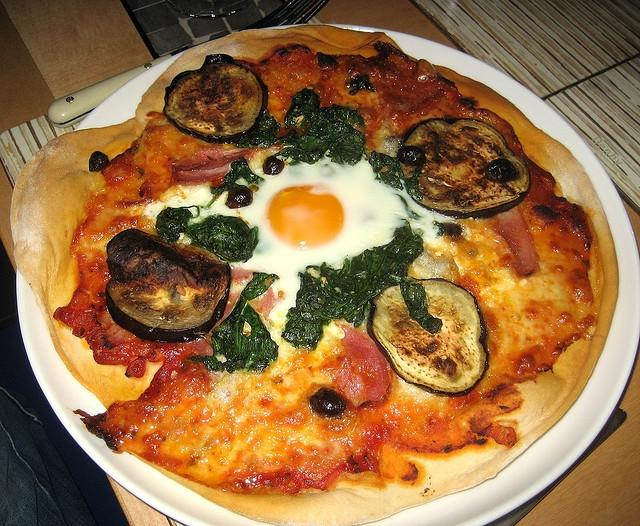vegetable marrow: (366, 278, 490, 397), (105, 228, 231, 342), (396, 118, 532, 220), (162, 54, 268, 144)
